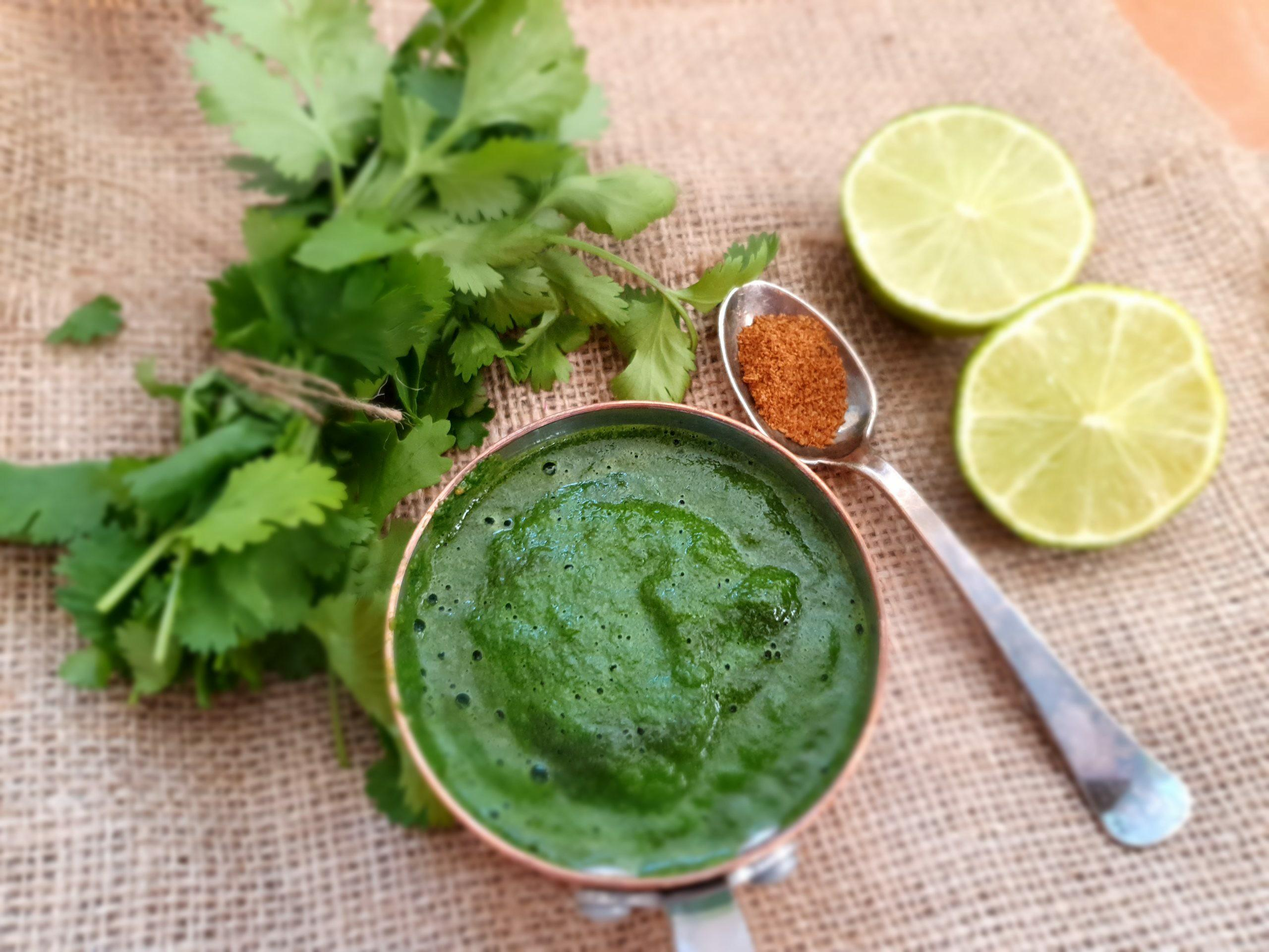GreenChutney: (397, 424, 874, 873)
